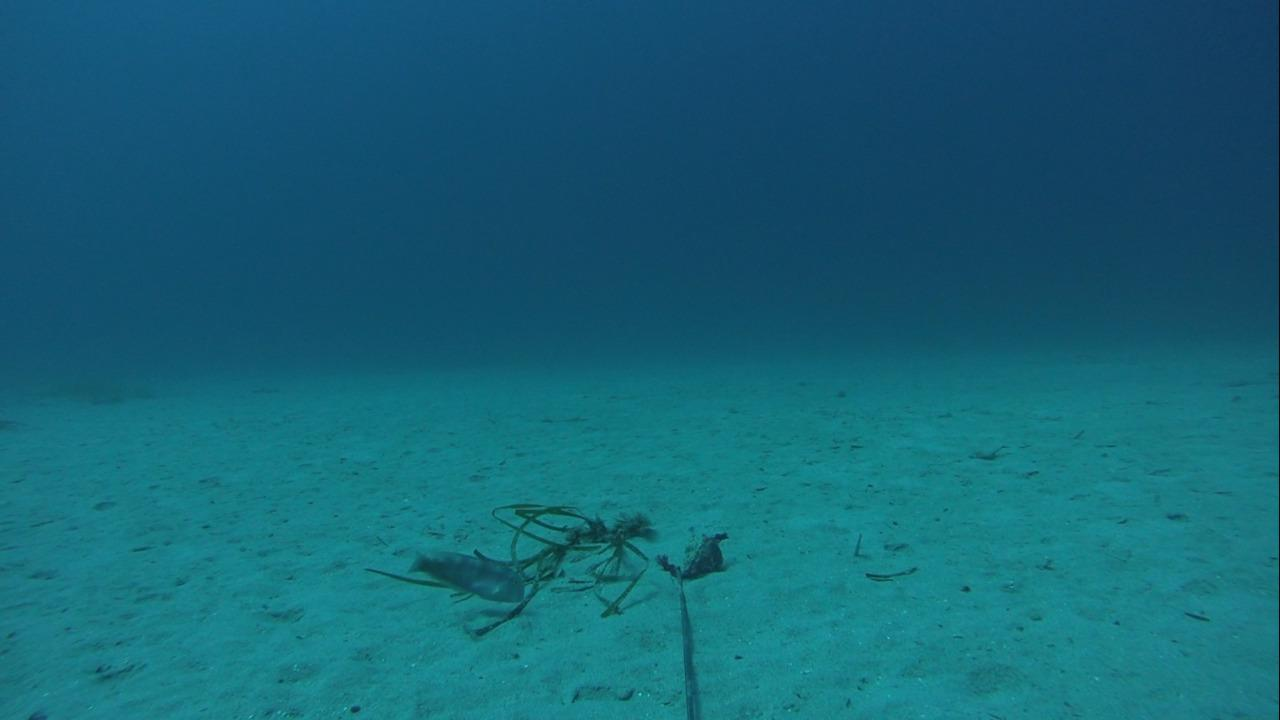raor: (399, 538, 528, 612)
